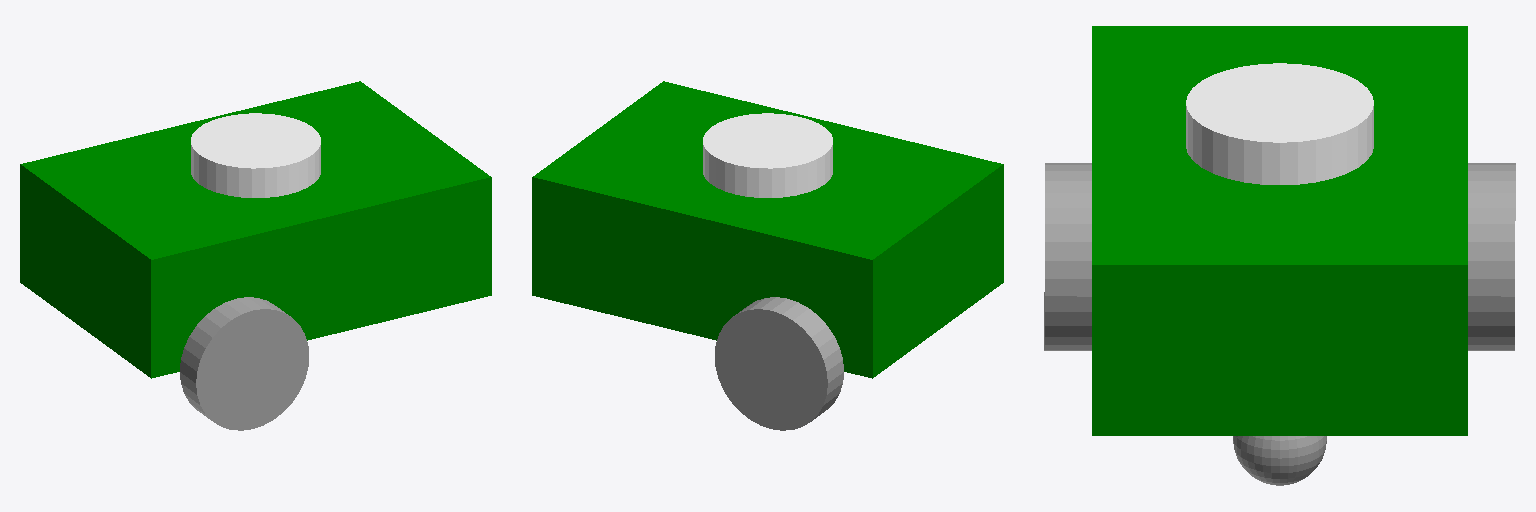
URDF robot description (my_robot):
<?xml version="1.0"?>

<robot name="my_robot">
    <material name="grey">
        <color rgba="0.7 0.7 0.7 1"/>
    </material>

    <material name="green">
        <color rgba="0 0.6 0 1"/>
    </material>

    <material name="white">
        <color rgba="1 1 1 1"/>
    </material>

    <link name="base_footprint" />

    <link name="base_link">
        <visual>
            <geometry>
                <box size="0.6 0.4 0.2"/>
            </geometry>
            <origin xyz="0 0 0.1" rpy="0 0 0"/>
            <material name="green"/>
        </visual>
    </link>

    <link name="lidar_link">
        <visual>
            <geometry>
                <cylinder radius="0.1" length="0.05"/>
            </geometry>
            <origin xyz="0 0 0" rpy="0 0 0"/>
            <material name="white"/>
        </visual>
    </link>

    <link name="left_wheel_link">
        <visual>
            <geometry>
                <cylinder radius="0.1" length="0.05"/>
            </geometry>
            <origin xyz="0 0 0" rpy="1.57 0 0" />
            <material name="grey" />
        </visual>
    </link>

    <link name="right_wheel_link">
        <visual>
            <geometry>
                <cylinder radius="0.1" length="0.05"/>
            </geometry>
            <origin xyz="0 0 0" rpy="1.57 0 0" />
            <material name="grey" />
        </visual>
    </link>

    <link name="caster_wheel_link">
        <visual>
            <geometry>
                <sphere radius="0.05"/>
            </geometry>
            <origin xyz="0 0 0" rpy="0 0 0" />
            <material name="grey" />
        </visual>
    </link>

    <joint name="base_joint" type="fixed">
        <parent link="base_footprint" />
        <child link="base_link" />
        <origin xyz="0 0 0.1" rpy="0 0 0" />
    </joint>

    <joint name="base_lidar_joint" type="fixed">
        <parent link="base_link" />
        <child link="lidar_link" />
        <origin xyz="0 0 0.225" rpy="0 0 0" />
    </joint>

    <joint name="base_left_wheel_joint" type="continuous">
        <parent link="base_link" />
        <child link="left_wheel_link" />
        <origin xyz="-0.15 0.225 0" rpy="0 0 0" />
        <axis xyz="0 1 0" />
    </joint>

    <joint name="base_right_wheel_joint" type="continuous">
        <parent link="base_link" />
        <child link="right_wheel_link" />
        <origin xyz="-0.15 -0.225 0" rpy="0 0 0" />
        <axis xyz="0 1 0" />
    </joint>

    <joint name="base_caster_wheel_joint" type="fixed">
        <parent link="base_link" />
        <child link="caster_wheel_link" />
        <origin xyz="0.2 0 -0.05" rpy="0 0 0" />
    </joint>
</robot>

--- Facts derived from the render (not from the file) ---
The picture shows the robot from 3 angles, left to right: view 1: azimuth 30°, elevation 25°; view 2: azimuth 150°, elevation 25°; view 3: azimuth 270°, elevation 25°; orthographic projection.
Model my_robot with 6 links and 5 joints (2 continuous, 3 fixed), rooted at base_footprint, posed every joint at zero.
Links seen in each view (by area): view 1: base_link, right_wheel_link, lidar_link; view 2: base_link, left_wheel_link, lidar_link; view 3: base_link, lidar_link, right_wheel_link, left_wheel_link, caster_wheel_link.
Link boxes in pixels (x1,y1,x2,y2): base_link: [20, 81, 491, 378]; right_wheel_link: [180, 297, 308, 430]; lidar_link: [191, 113, 320, 197]; base_link: [532, 81, 1003, 378]; left_wheel_link: [715, 297, 843, 430]; lidar_link: [703, 113, 832, 197]; base_link: [1092, 26, 1467, 435]; lidar_link: [1186, 63, 1373, 184]; right_wheel_link: [1044, 163, 1091, 350]; left_wheel_link: [1468, 163, 1515, 350]; caster_wheel_link: [1233, 436, 1326, 485].
Size in the robot's own frame: 0.6 by 0.5002 by 0.35 metres.
Geometry: primitives only (box / cylinder / sphere), no mesh files.